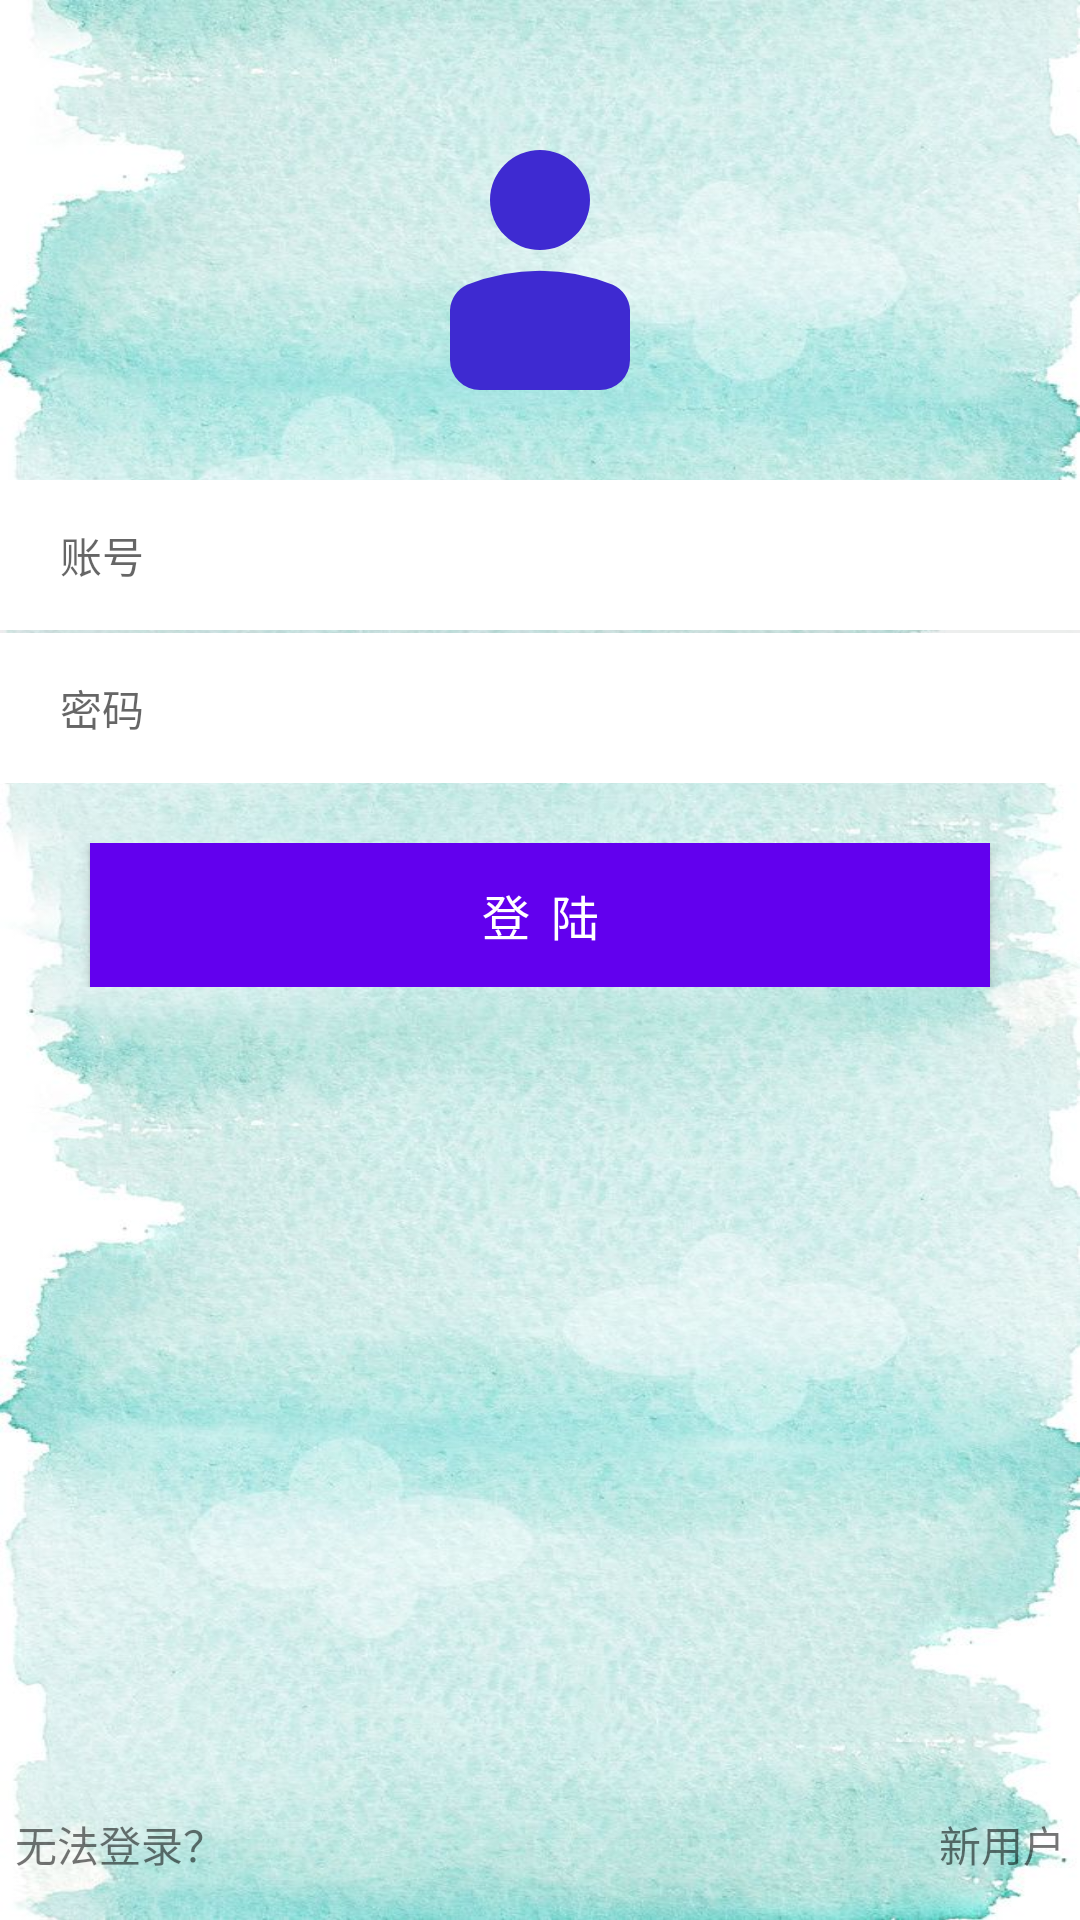

Named icons in this screenshot (1080px×1920px) and their centers, (x=x, y=y):
account: (x=540, y=270)
